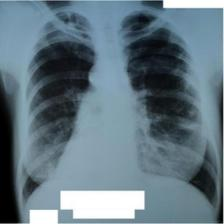tuberculosis: (16, 8, 213, 222)
